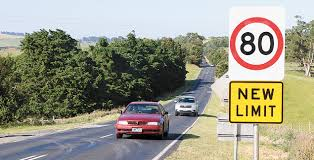Speed_limit_80km: (228, 17, 285, 71)
